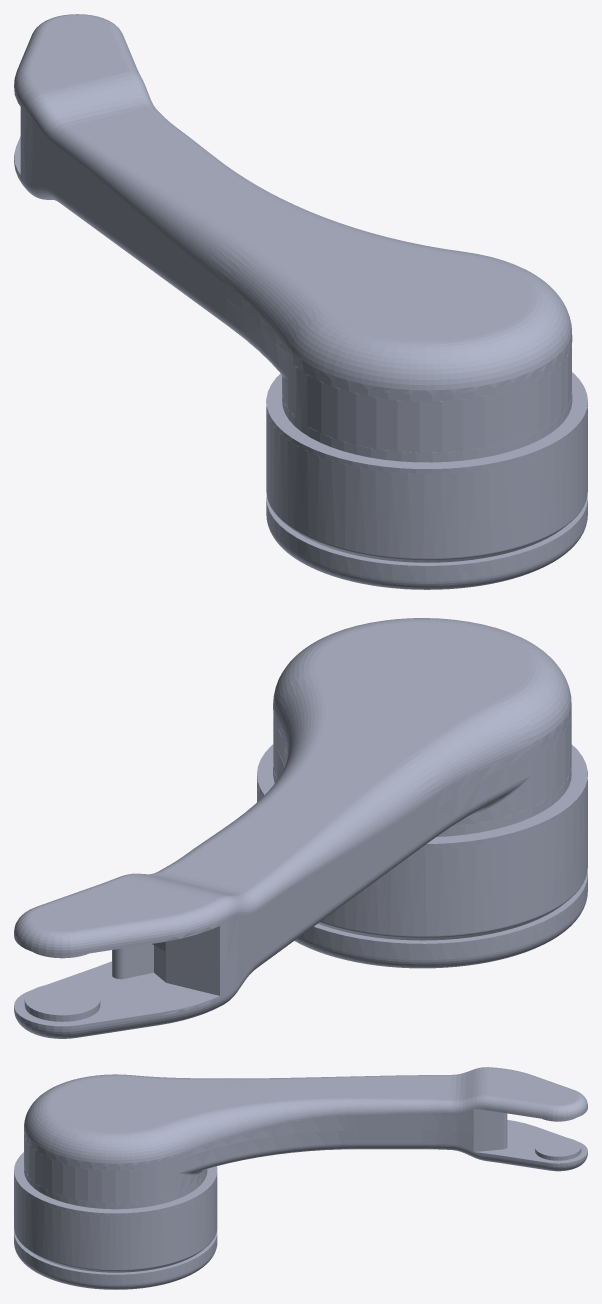
The model's file is thigh.obj.
The picture shows the model from 3 angles, top to bottom: view 1: azimuth 30°, elevation 25°; view 2: azimuth 150°, elevation 25°; view 3: azimuth 270°, elevation 25°; orthographic projection. The views are drawn at different scales.
Visible parts, largest first — view 1: Thigh_Left-mesh; view 2: Thigh_Left-mesh; view 3: Thigh_Left-mesh.
Part boxes in pixels (<box>): Thigh_Left-mesh: <box>14,14,587,589</box>; Thigh_Left-mesh: <box>14,618,587,1038</box>; Thigh_Left-mesh: <box>14,1067,587,1289</box>.
Bounding box in the file's own units: 0.092 × 0.0783 × 0.2595.
